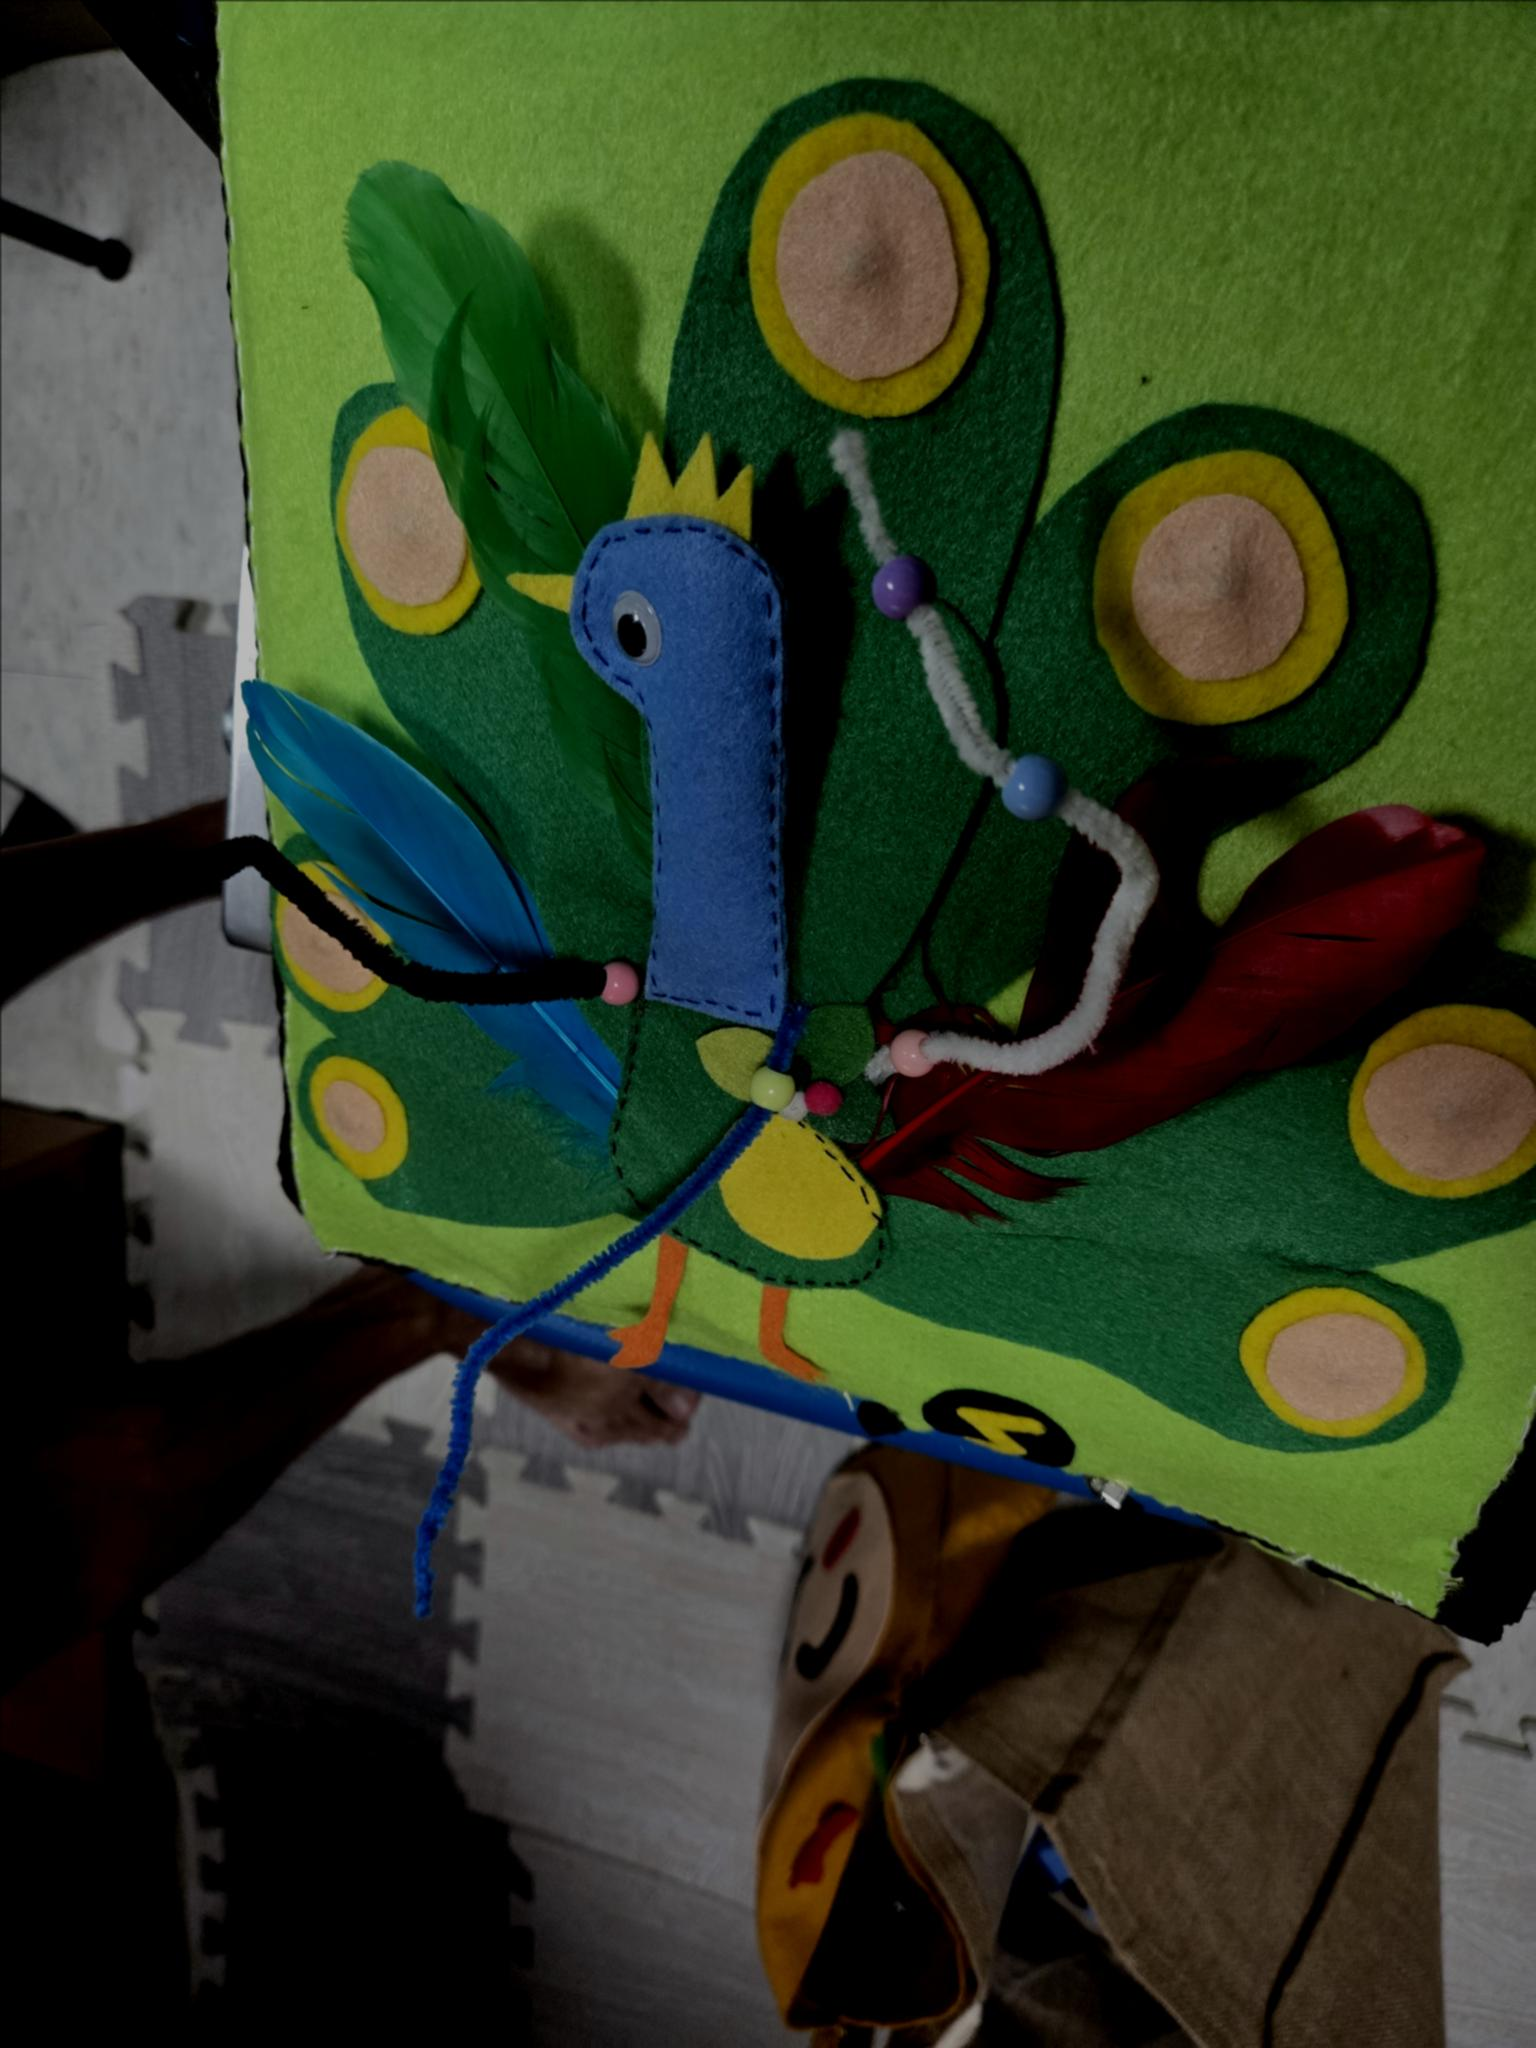bead: (994, 739, 1075, 826), (860, 548, 928, 626), (737, 1056, 800, 1132), (881, 1014, 928, 1100), (594, 934, 645, 1005)
